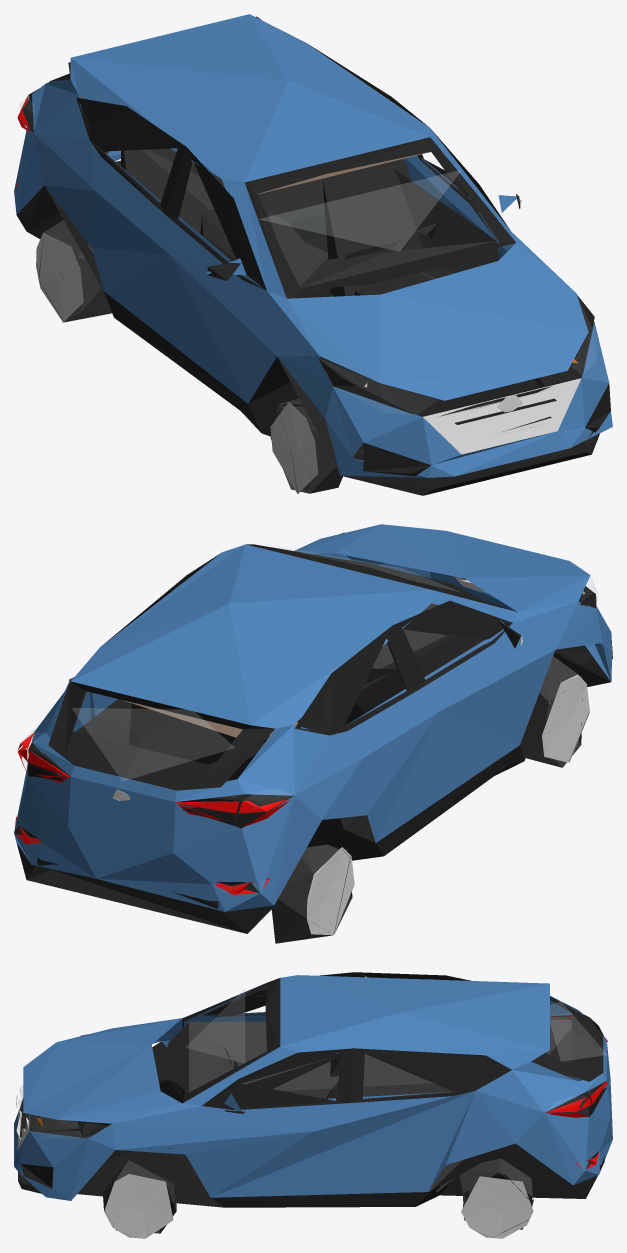
Rendered from car-suv-xlo.glb.
3 views of the same model, one above another, from view 1: azimuth 30°, elevation 25°; view 2: azimuth 150°, elevation 25°; view 3: azimuth 270°, elevation 25° (orthographic). The views are drawn at different scales.
Parts seen in each view (by area): view 1: tucson-15_exterior_varnish_0, tucson-15_FR_wheel_black_plastic_0, tucson-15_driving_wheel_sits_leather_0, tucson-15_FR_wheel_metal_0, tucson-15_driving_wheel_panel_0, tucson-15_backlights_glass_0, tucson-15_FR_wheel_wheel_rubber_0; view 2: tucson-15_exterior_varnish_0, tucson-15_FR_wheel_black_plastic_0, tucson-15_backlights_glass_0, tucson-15_FR_wheel_metal_0, tucson-15_driving_wheel_sits_leather_0, tucson-15_FR_wheel_wheel_rubber_0, tucson-15_driving_wheel_panel_0, tucson-15_brakelights_glass_brakelights_red_0, tucson-15_interior_interior_0; view 3: tucson-15_exterior_varnish_0, tucson-15_FR_wheel_black_plastic_0, tucson-15_driving_wheel_panel_0, tucson-15_FR_wheel_metal_0, tucson-15_backlights_glass_0, tucson-15_FR_wheel_wheel_rubber_0, tucson-15_brakelights_glass_brakelights_red_0.
Part boxes in pixels (<box>): tucson-15_exterior_varnish_0: <box>14,14,612,477</box>; tucson-15_FR_wheel_black_plastic_0: <box>16,16,610,495</box>; tucson-15_driving_wheel_sits_leather_0: <box>121,148,438,298</box>; tucson-15_FR_wheel_metal_0: <box>36,199,581,493</box>; tucson-15_driving_wheel_panel_0: <box>142,149,499,288</box>; tucson-15_backlights_glass_0: <box>20,91,461,251</box>; tucson-15_FR_wheel_wheel_rubber_0: <box>43,220,342,493</box>; tucson-15_exterior_varnish_0: <box>14,524,612,911</box>; tucson-15_FR_wheel_black_plastic_0: <box>14,532,612,933</box>; tucson-15_backlights_glass_0: <box>20,545,598,780</box>; tucson-15_FR_wheel_metal_0: <box>112,576,589,935</box>; tucson-15_driving_wheel_sits_leather_0: <box>129,668,404,829</box>; tucson-15_FR_wheel_wheel_rubber_0: <box>271,656,582,943</box>; tucson-15_driving_wheel_panel_0: <box>75,603,452,765</box>; tucson-15_brakelights_glass_brakelights_red_0: <box>15,733,290,894</box>; tucson-15_interior_interior_0: <box>122,700,297,739</box>; tucson-15_exterior_varnish_0: <box>14,975,612,1200</box>; tucson-15_FR_wheel_black_plastic_0: <box>18,972,606,1236</box>; tucson-15_driving_wheel_panel_0: <box>189,1019,575,1192</box>; tucson-15_FR_wheel_metal_0: <box>16,1085,533,1238</box>; tucson-15_backlights_glass_0: <box>186,989,606,1062</box>; tucson-15_FR_wheel_wheel_rubber_0: <box>103,1158,532,1233</box>; tucson-15_brakelights_glass_brakelights_red_0: <box>545,1017,607,1168</box>.
Size of the model in its own units: 207 by 159 by 449.
